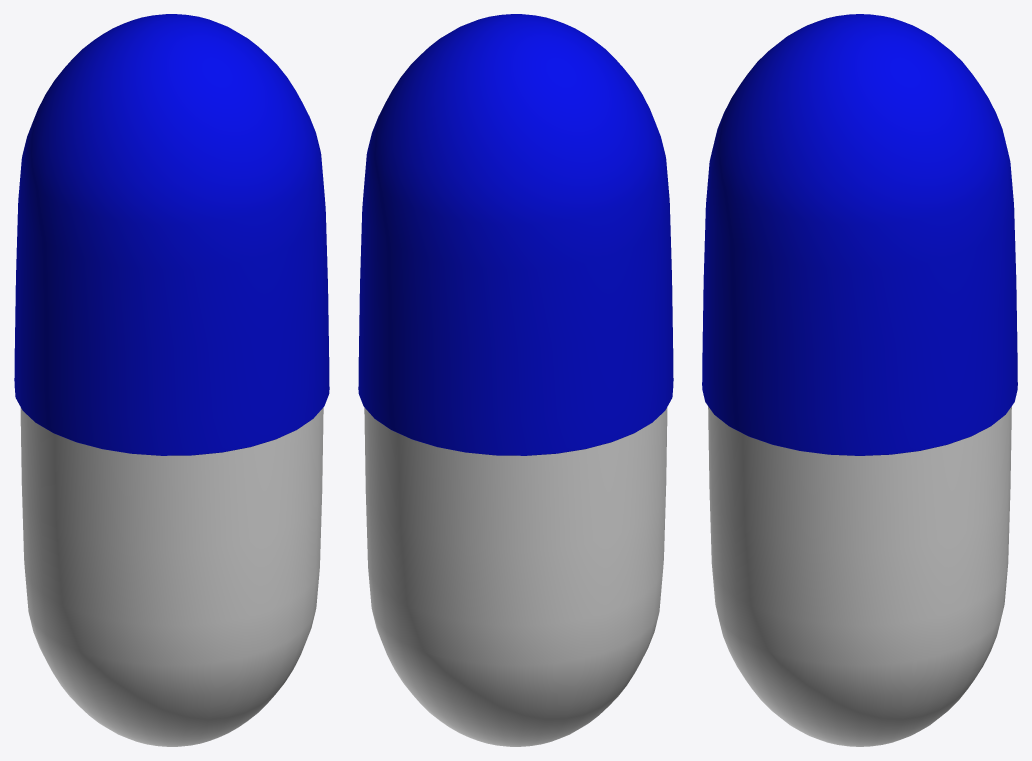
Rendered from PillModel.fbx.
3 views of the same model, side by side, from view 1: azimuth 30°, elevation 25°; view 2: azimuth 150°, elevation 25°; view 3: azimuth 270°, elevation 25° (orthographic).
Visible parts, largest first — view 1: Sphere.001, Sphere; view 2: Sphere.001, Sphere; view 3: Sphere.001, Sphere.
Boxes of the visible parts, x1=… form: Sphere.001: x1=14, y1=14, x2=329, y2=455; Sphere: x1=20, y1=407, x2=323, y2=746; Sphere.001: x1=358, y1=14, x2=673, y2=455; Sphere: x1=364, y1=407, x2=667, y2=746; Sphere.001: x1=702, y1=14, x2=1017, y2=455; Sphere: x1=708, y1=406, x2=1011, y2=746.
Bounding box in the file's own units: 32.86 × 81.72 × 32.86.
